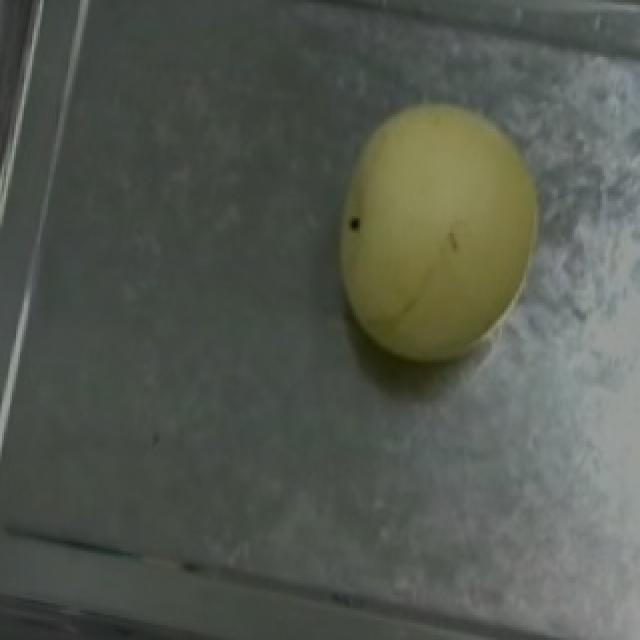Fruit: (308, 82, 558, 384)
